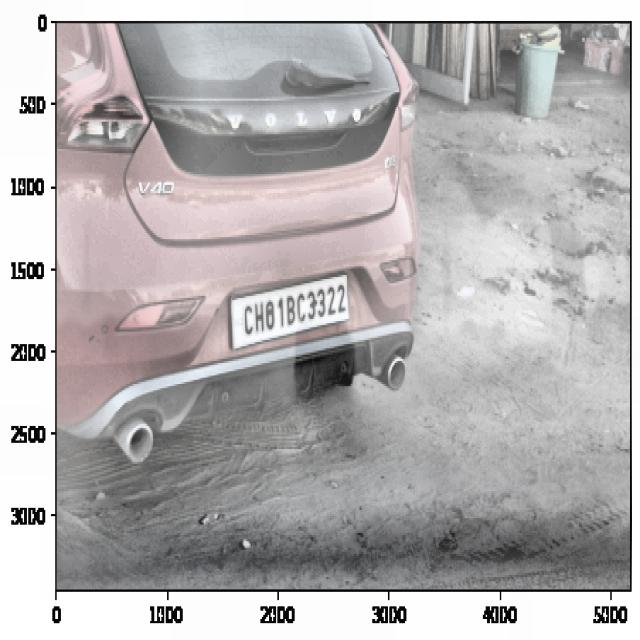license_plate: (238, 279, 349, 339)
